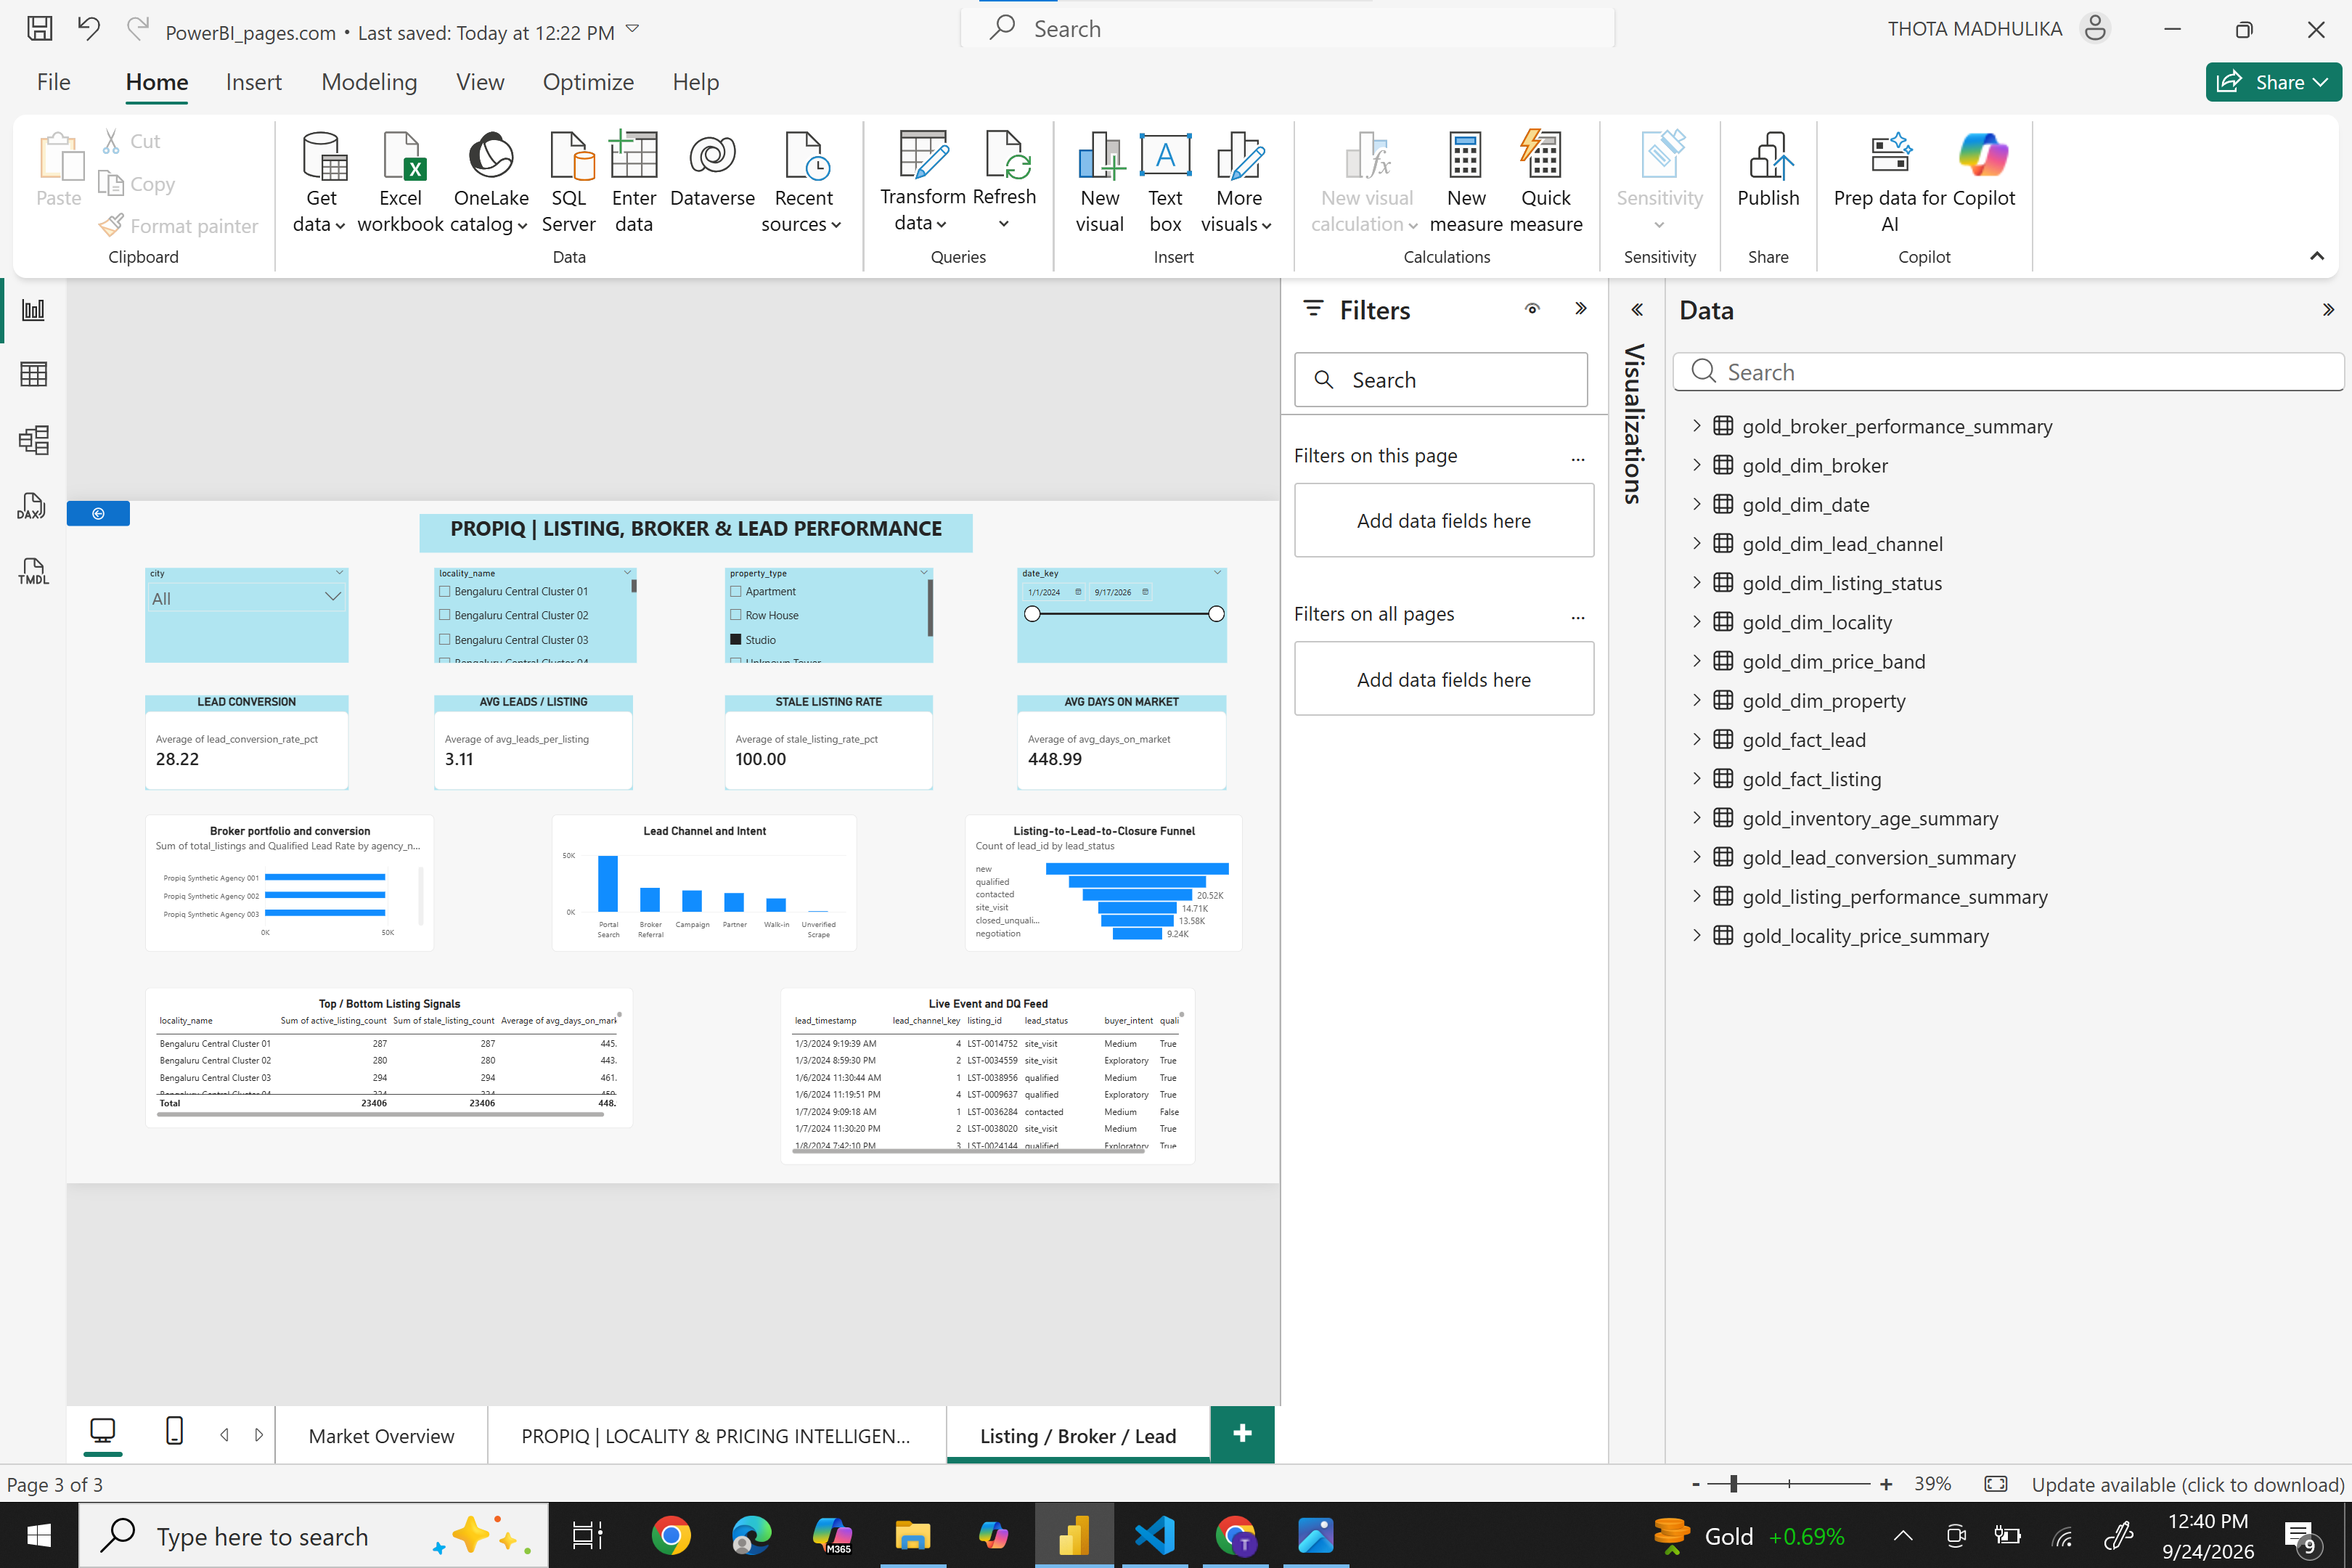

What the dashboard file says about the page in this screenshot:
{"tool":"powerbi","page":{"name":"Listing / Broker / Lead","canvas":[1920,1080],"ordinal":2},"visuals":[{"type":"textbox","box":[0,0,1920,68],"z":0},{"type":"slicer","fields":{"Values":["gold_dim_locality.city"]},"box":[123.1,106.8,322.1,150.2],"z":1000},{"type":"slicer","fields":{"Values":["gold_dim_locality.locality_name"]},"box":[582.7,106.8,320.3,149.9],"z":2000},{"type":"slicer","fields":{"Values":["gold_dim_property.property_type"]},"box":[1042.4,106.8,329.3,149.9],"z":3000},{"type":"slicer","fields":{"Values":["gold_dim_date.date_key"]},"box":[1505.6,106.8,331.2,150.2],"z":4000},{"type":"cardVisual","title":"LEAD CONVERSION","fields":{"Data":["Avg(gold_lead_conversion_summary.lead_conversion_rate_pct)"]},"box":[123.1,307.6,322.1,150.2],"z":5000},{"type":"cardVisual","title":"AVG LEADS / LISTING","fields":{"Data":["Avg(gold_lead_conversion_summary.avg_leads_per_listing)"]},"box":[580.9,307.6,314.9,150.2],"z":6000},{"type":"cardVisual","title":"STALE LISTING RATE","fields":{"Data":["Avg(gold_inventory_age_summary.stale_listing_rate_pct)"]},"box":[1042.4,307.6,329.4,150.2],"z":7000},{"type":"cardVisual","title":"AVG DAYS ON MARKET","fields":{"Data":["Avg(gold_listing_performance_summary.avg_days_on_market)"]},"box":[1505.6,307.6,331.2,150.2],"z":8000},{"type":"clusteredBarChart","title":"Broker portfolio and conversion","fields":{"Category":["gold_broker_performance_summary.agency_name"],"Y":["Sum(gold_listing_performance_summary.total_listings)"]},"box":[123.1,497.7,457.8,217.2],"z":9000},{"type":"clusteredColumnChart","title":"Lead Channel and Intent","fields":{"Category":["gold_dim_lead_channel.lead_channel"],"Y":["CountNonNull(gold_fact_lead.lead_id)"]},"box":[769.1,497.7,483.2,217.2],"z":10000},{"type":"funnel","title":"Listing-to-Lead-to-Closure Funnel","fields":{"Category":["gold_fact_lead.lead_status"],"Y":["CountNonNull(gold_fact_lead.lead_id)"]},"box":[1422.4,497.7,439.7,217.2],"z":11000},{"type":"tableEx","title":"Top / Bottom Listing Signals","fields":{"Values":["gold_dim_locality.locality_name","Sum(gold_listing_performance_summary.active_listing_count)","Sum(gold_listing_performance_summary.stale_listing_count)","Avg(gold_listing_performance_summary.avg_days_on_market)"]},"box":[90.9,770,869.9,222.6],"z":12000},{"type":"actionButton","box":[0,0,100,40],"z":13000},{"type":"tableEx","title":"Live Event and DQ Feed","fields":{"Values":["gold_fact_lead.lead_timestamp","gold_fact_lead.lead_channel_key","gold_fact_lead.listing_id","gold_fact_lead.lead_status","gold_fact_lead.buyer_intent","gold_fact_lead.qualified_flag"]},"box":[1131.1,770,754.1,281.6],"z":14000}]}

Visuals, with their boxes on the page's 1920x1080 design canvas (x1, y1, x2, y2). These are canvas units, not pixel positions in the 2352x1568 screenshot, which may show the page scaled, cropped or inside an application window:
textbox: pyautogui.locateOnScreen(0, 0, 1920, 68)
slicer - gold_dim_locality.city: pyautogui.locateOnScreen(123, 107, 445, 257)
slicer - gold_dim_locality.locality_name: pyautogui.locateOnScreen(583, 107, 903, 257)
slicer - gold_dim_property.property_type: pyautogui.locateOnScreen(1042, 107, 1372, 257)
slicer - gold_dim_date.date_key: pyautogui.locateOnScreen(1506, 107, 1837, 257)
"LEAD CONVERSION" cardVisual: pyautogui.locateOnScreen(123, 308, 445, 458)
"AVG LEADS / LISTING" cardVisual: pyautogui.locateOnScreen(581, 308, 896, 458)
"STALE LISTING RATE" cardVisual: pyautogui.locateOnScreen(1042, 308, 1372, 458)
"AVG DAYS ON MARKET" cardVisual: pyautogui.locateOnScreen(1506, 308, 1837, 458)
"Broker portfolio and conversion" clusteredBarChart: pyautogui.locateOnScreen(123, 498, 581, 715)
"Lead Channel and Intent" clusteredColumnChart: pyautogui.locateOnScreen(769, 498, 1252, 715)
"Listing-to-Lead-to-Closure Funnel" funnel: pyautogui.locateOnScreen(1422, 498, 1862, 715)
"Top / Bottom Listing Signals" tableEx: pyautogui.locateOnScreen(91, 770, 961, 993)
actionButton: pyautogui.locateOnScreen(0, 0, 100, 40)
"Live Event and DQ Feed" tableEx: pyautogui.locateOnScreen(1131, 770, 1885, 1052)
